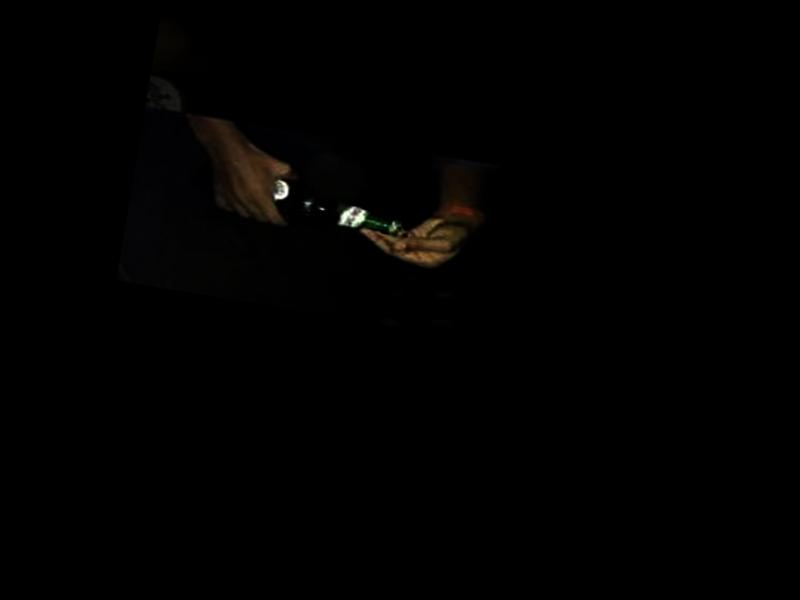Beer: (191, 155, 407, 241)
